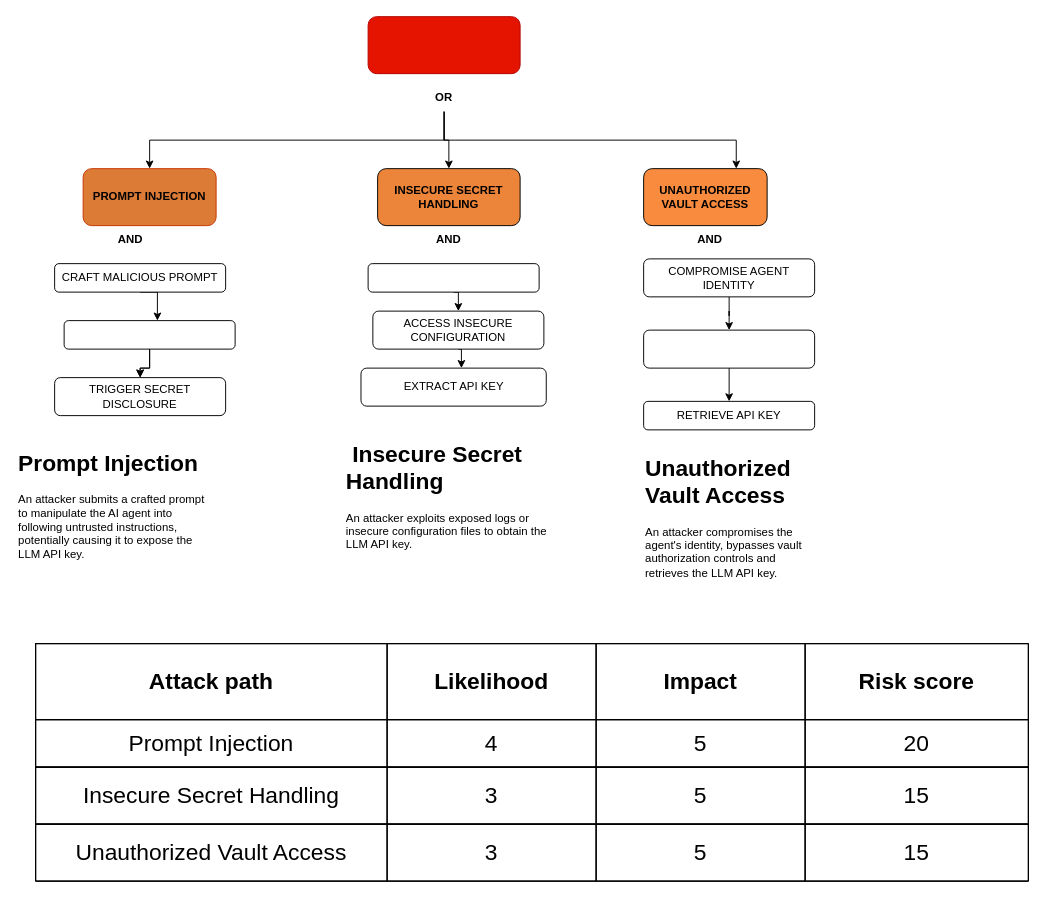
Some shapes in this 1045 by 898 pixel diagram are drawn without their labels. The centre of each missing label's shape, as x and y in pixels:
"BYPASS VAULT AUTHORIZATION" goes at [729,348].
"EXPLOIT EXPOSED LOGS" goes at [453,277].
"MANIPULATE AGENT INSTRUCTIONS" goes at [149,334].
"STEAL LLM API KEY" goes at [443,45].
